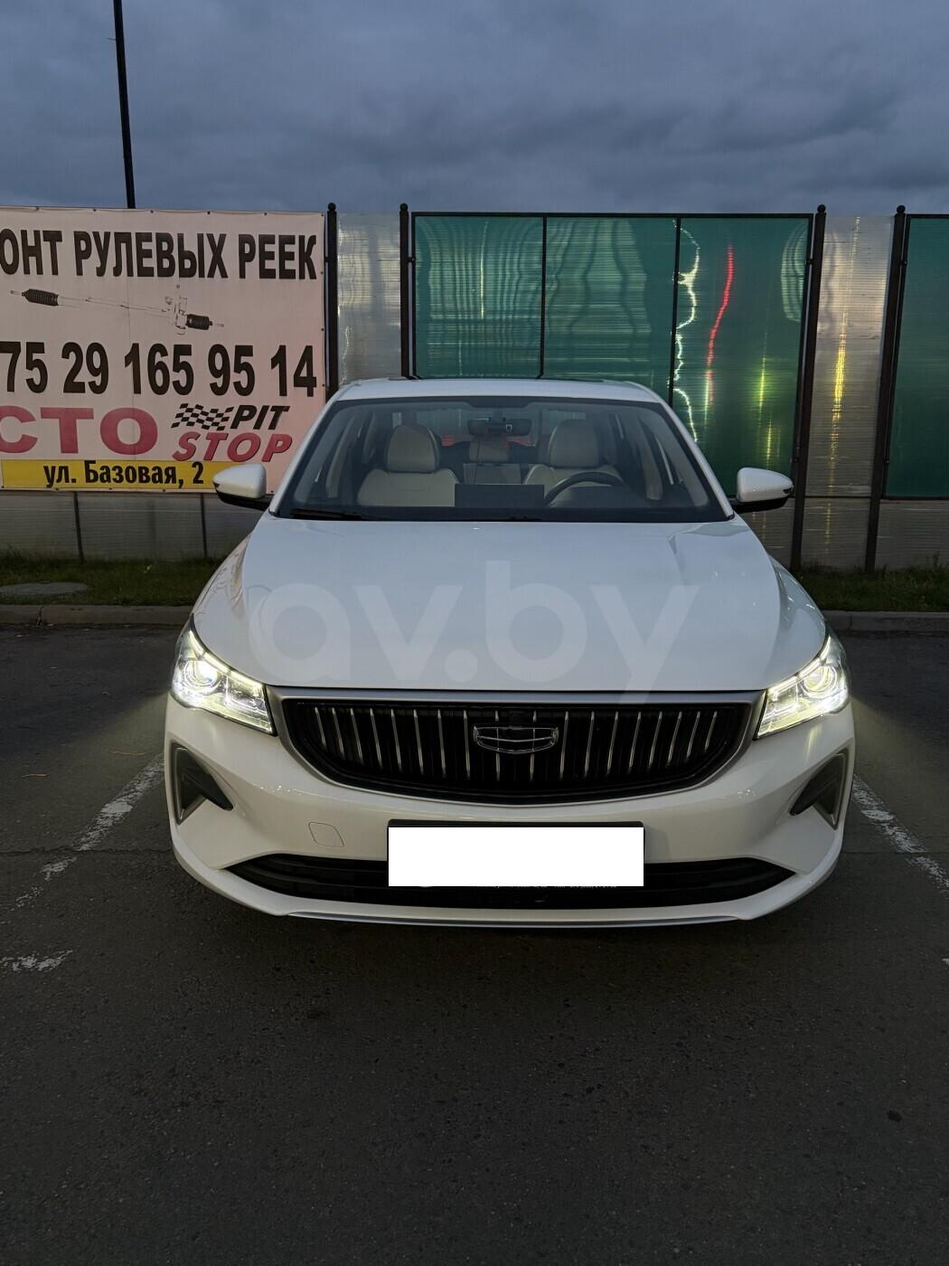Emgrand_2021: (150, 360, 879, 960)
